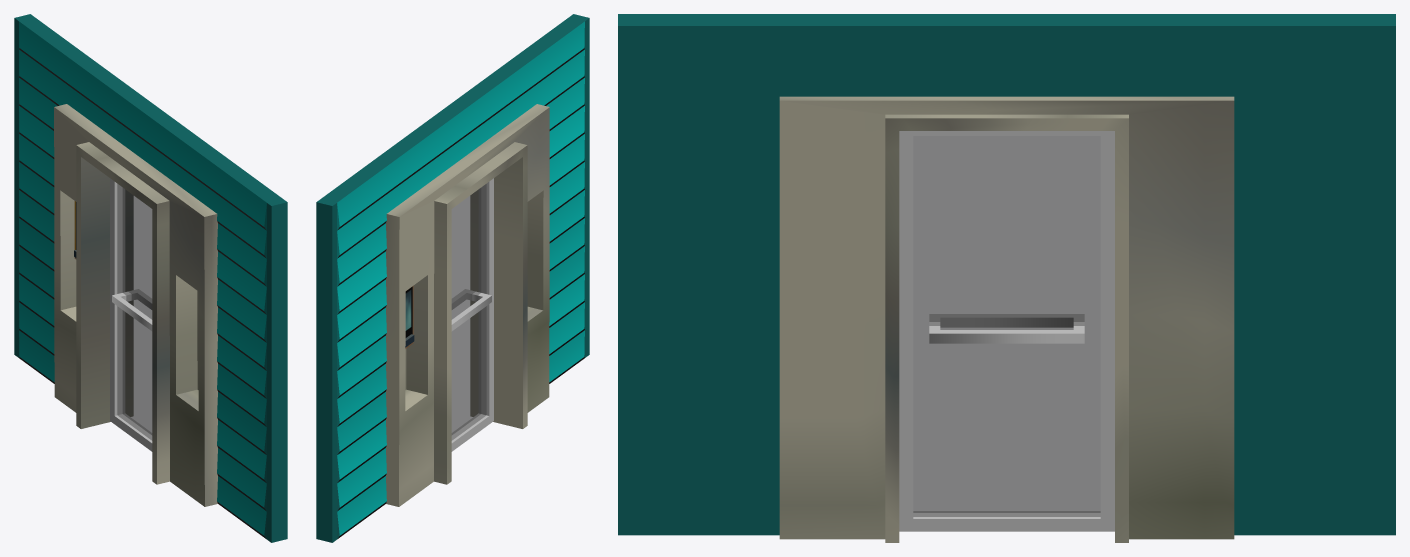
File: TSP_House_Wall_Short_13A.fbx
3 views of the same model, side by side, from view 1: azimuth 30°, elevation 25°; view 2: azimuth 150°, elevation 25°; view 3: azimuth 270°, elevation 25° (orthographic). The views are drawn at different scales.
Visible parts, largest first — view 1: TSP_House_Wall_Short_13A, TSP_House_Wall_Short_13A_Door; view 2: TSP_House_Wall_Short_13A, TSP_House_Wall_Short_13A_Door; view 3: TSP_House_Wall_Short_13A, TSP_House_Wall_Short_13A_Door.
Boxes of the visible parts, box(x1,y1,x2,y2) form: TSP_House_Wall_Short_13A: box(14, 14, 287, 542); TSP_House_Wall_Short_13A_Door: box(110, 178, 152, 451); TSP_House_Wall_Short_13A: box(316, 14, 589, 542); TSP_House_Wall_Short_13A_Door: box(451, 178, 493, 451); TSP_House_Wall_Short_13A: box(618, 14, 1395, 542); TSP_House_Wall_Short_13A_Door: box(899, 131, 1114, 531).
Size of the model in its own units: 49 by 300 by 415.
